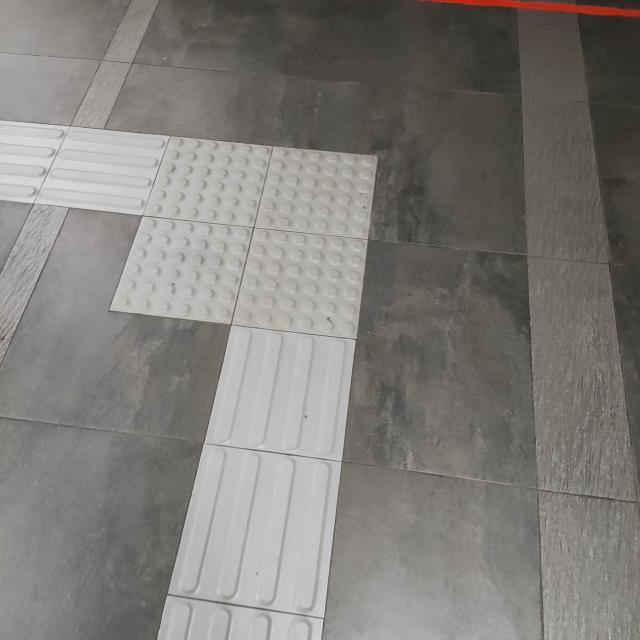kiri: (0, 87, 429, 412)
